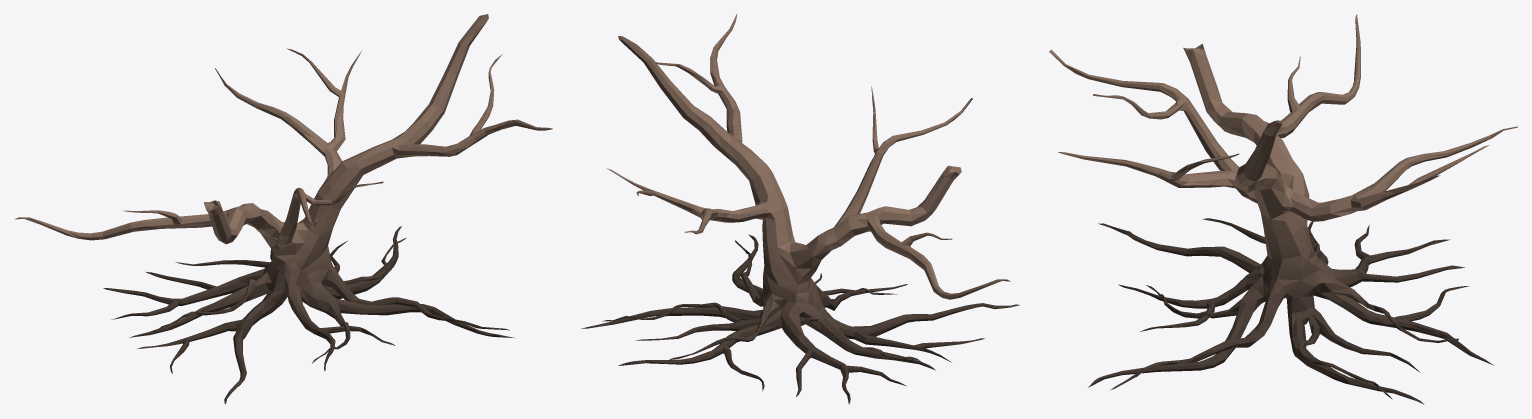
The model's file is Jungle_Tree_Dead_A.fbx.
3 renders of one model, left to right at view 1: azimuth 30°, elevation 25°; view 2: azimuth 150°, elevation 25°; view 3: azimuth 270°, elevation 25°, orthographic. The views are drawn at different scales.
Parts seen in each view (by area): view 1: Jungle_Tree_Dead_A; view 2: Jungle_Tree_Dead_A; view 3: Jungle_Tree_Dead_A.
Boxes of the visible parts, x1,y1,x2,y2 form: Jungle_Tree_Dead_A: (15,14,552,404); Jungle_Tree_Dead_A: (581,14,1019,404); Jungle_Tree_Dead_A: (1049,14,1517,404).
Bounding box in the file's own units: 14.42 × 8.03 × 11.31.
